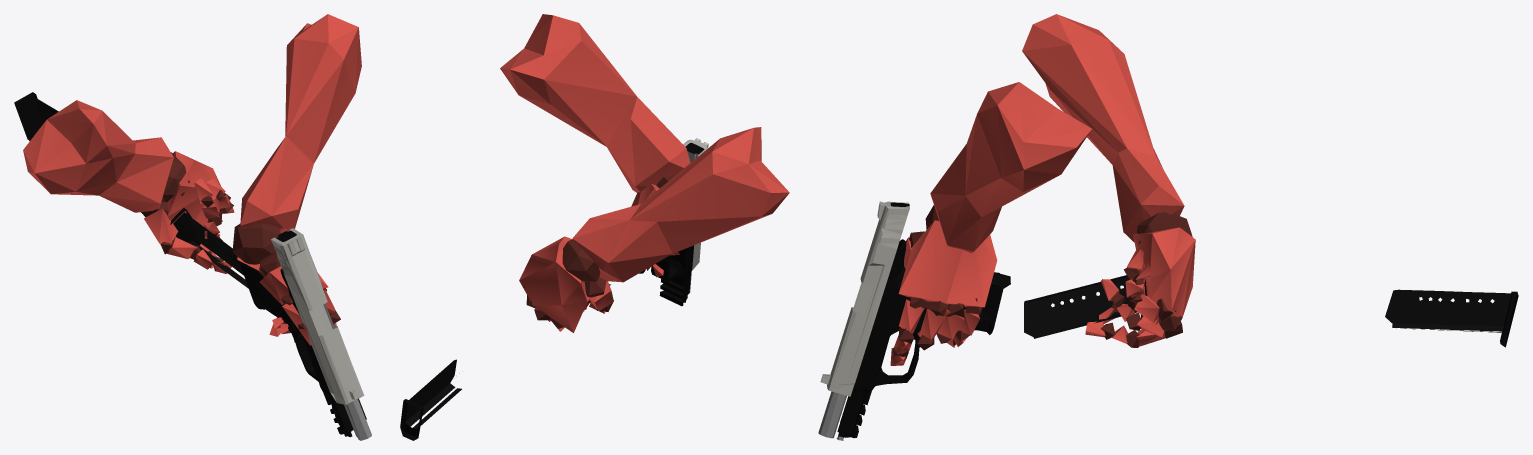
File: M&P9reloadNormal1lowP_000132.obj
3 views of the same model, side by side, from view 1: azimuth 30°, elevation 25°; view 2: azimuth 150°, elevation 25°; view 3: azimuth 270°, elevation 25° (orthographic). The views are drawn at different scales.
Visible parts, largest first — view 1: Beta_Surface.001_Beta_Surface.002, slide_平面.002, Beta_Joints.001_Beta_Joints.002, triger_平面.001, magazine.002_平面.005, magazine_平面.003; view 2: Beta_Surface.001_Beta_Surface.002, magazine_平面.003, Beta_Joints.001_Beta_Joints.002, triger_平面.001, slide_平面.002; view 3: Beta_Surface.001_Beta_Surface.002, triger_平面.001, slide_平面.002, magazine_平面.003, Beta_Joints.001_Beta_Joints.002, magazine.002_平面.005.
Boxes of the visible parts, x1,y1,x2,y2 form: Beta_Surface.001_Beta_Surface.002: (23, 14, 361, 345); slide_平面.002: (271, 228, 364, 404); Beta_Joints.001_Beta_Joints.002: (141, 152, 340, 329); triger_平面.001: (240, 262, 371, 440); magazine.002_平面.005: (170, 208, 248, 288); magazine_平面.003: (14, 92, 58, 140); Beta_Surface.001_Beta_Surface.002: (500, 14, 789, 332); magazine_平面.003: (400, 359, 461, 440); Beta_Joints.001_Beta_Joints.002: (523, 175, 675, 328); triger_平面.001: (639, 245, 694, 306); slide_平面.002: (683, 138, 708, 270); Beta_Surface.001_Beta_Surface.002: (890, 14, 1195, 365); triger_平面.001: (818, 239, 1010, 440); slide_平面.002: (820, 201, 909, 396); magazine_平面.003: (1385, 289, 1518, 347); Beta_Joints.001_Beta_Joints.002: (892, 205, 1192, 358); magazine.002_平面.005: (1024, 274, 1146, 338).
Size of the model in its own units: 63.31 by 68.8 by 113.
